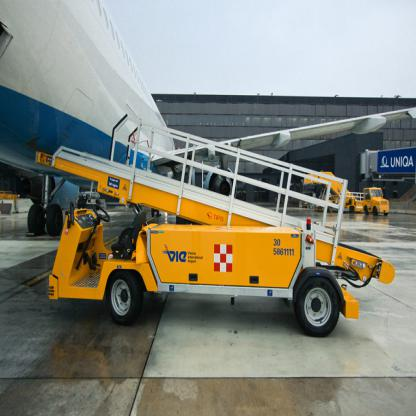baggagetruck: (36, 95, 400, 338)
